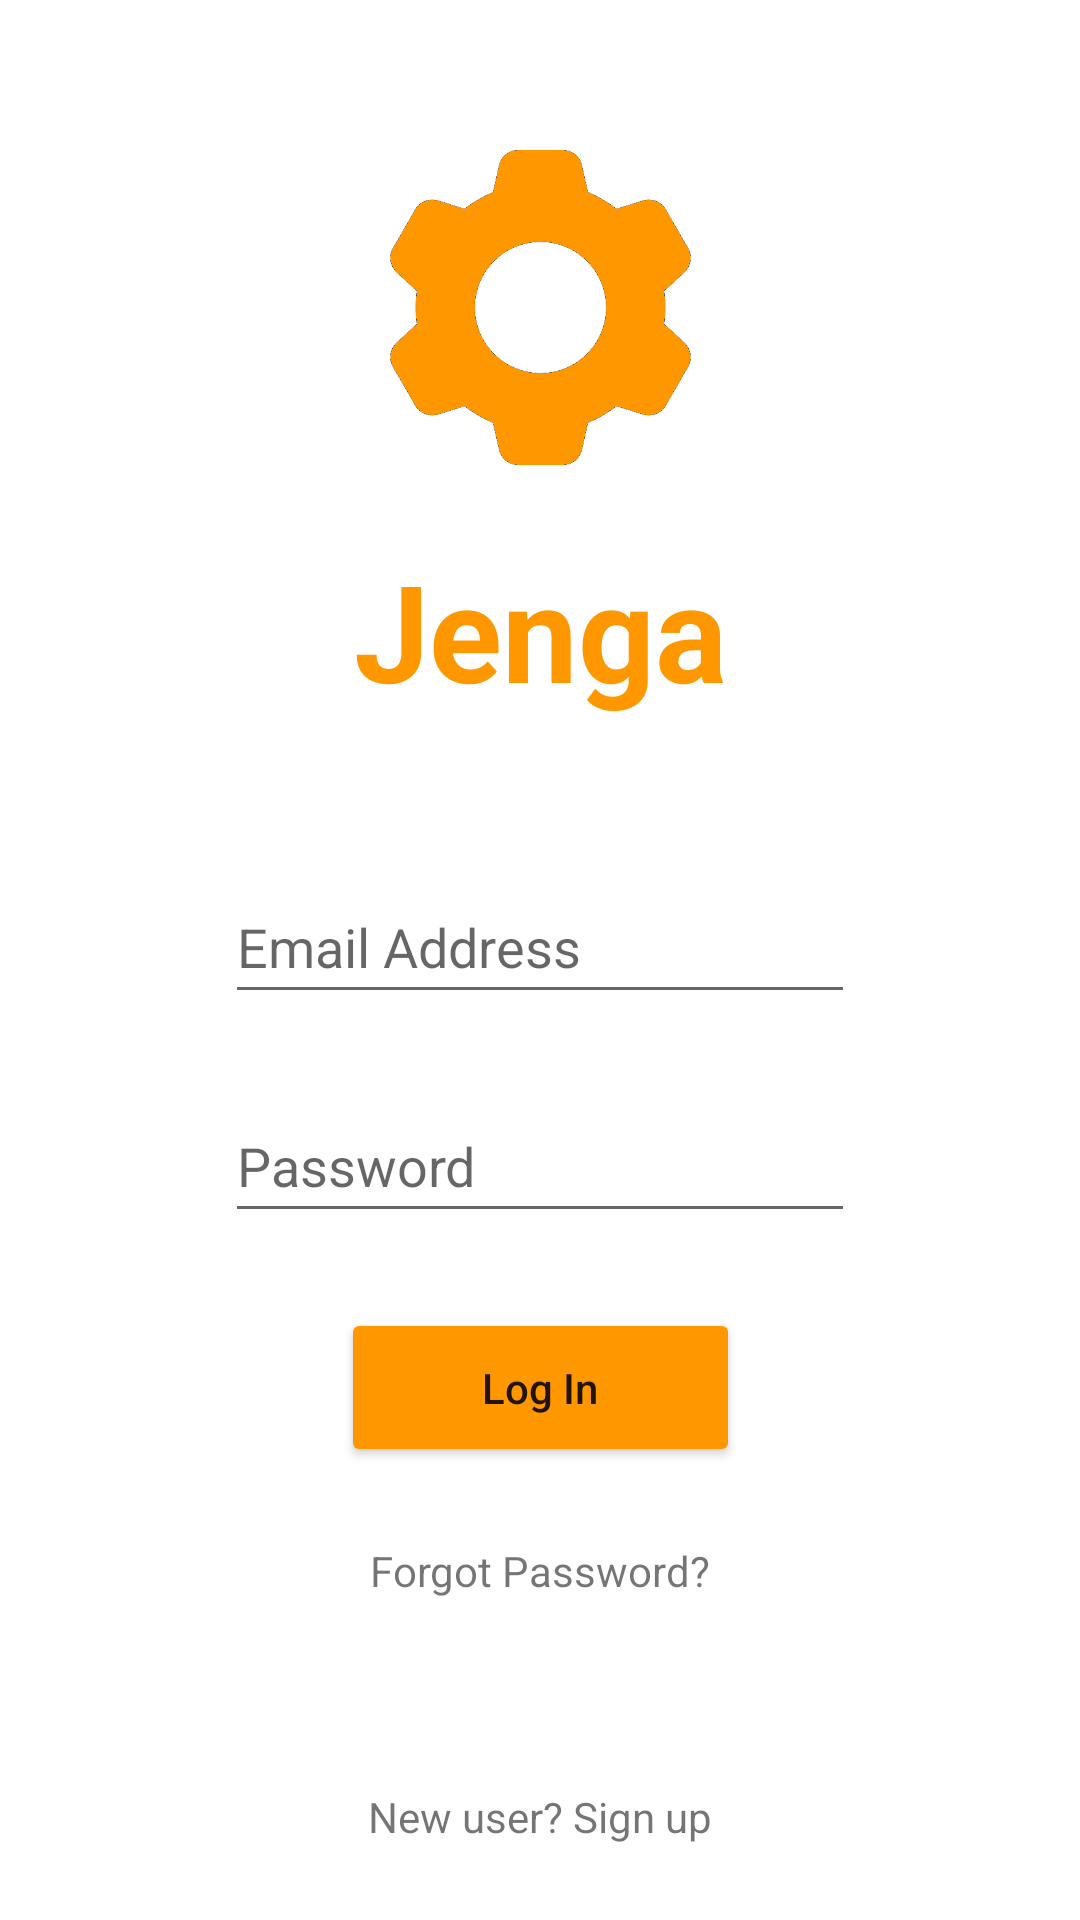

Screen size 1080×1920. Icon name, then its box in pixels as bbox(x1, y1, x2, y2):
cogwheel: bbox(390, 150, 691, 465)
